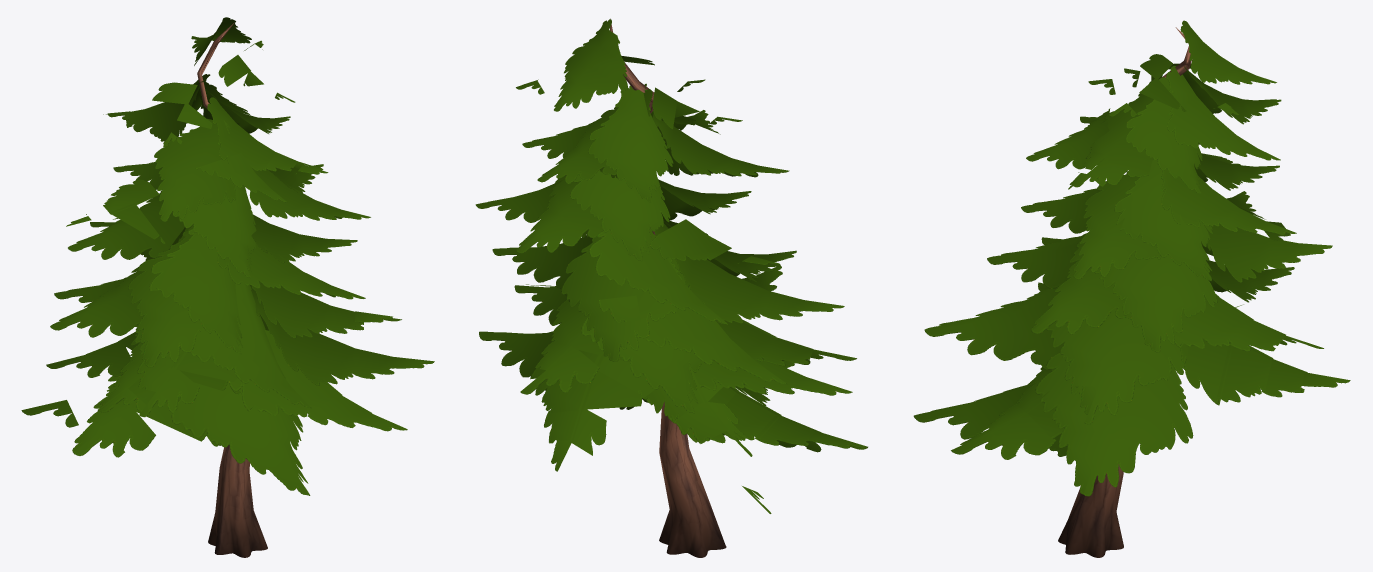
File: mk-pine-5-lo.glb
3 renders of one model, left to right at view 1: azimuth 30°, elevation 25°; view 2: azimuth 150°, elevation 25°; view 3: azimuth 270°, elevation 25°, orthographic. The views are drawn at different scales.
Parts seen in each view (by area): view 1: Pine_5; view 2: Pine_5; view 3: Pine_5.
Part boxes in pixels (x1=…): Pine_5: x1=21, y1=17, x2=434, y2=557; Pine_5: x1=475, y1=18, x2=867, y2=557; Pine_5: x1=913, y1=20, x2=1350, y2=557.
Size of the model in its own units: 6.67 by 8.6 by 6.48.
Materials: 2 (2 with a texture image).
